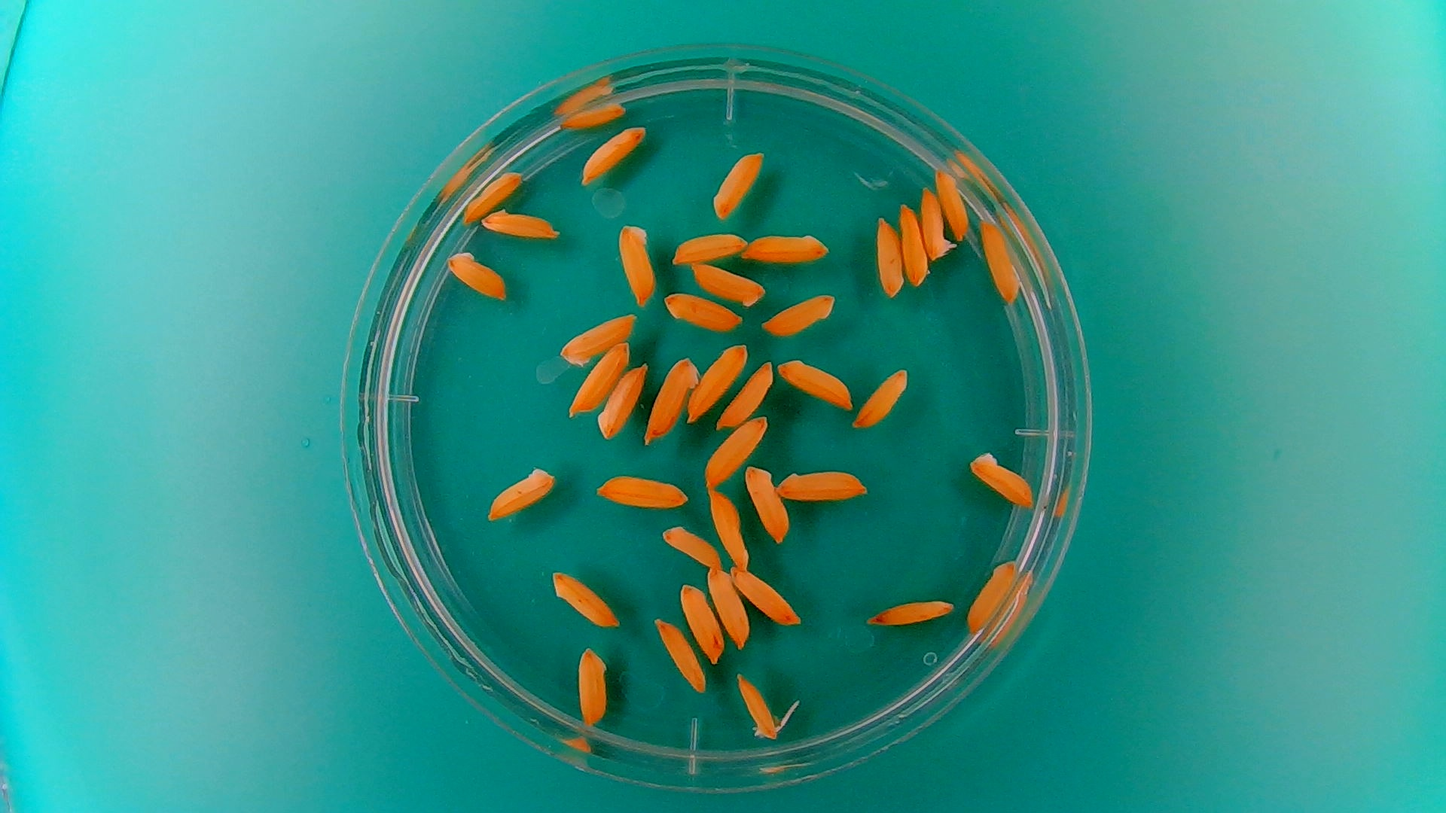no: (684, 339, 750, 425), (701, 413, 771, 489), (642, 354, 700, 444), (567, 339, 632, 417), (728, 563, 806, 627), (484, 462, 560, 522), (557, 311, 637, 368), (967, 447, 1037, 510), (594, 361, 648, 442), (715, 358, 775, 430), (653, 615, 707, 695), (965, 556, 1020, 634), (578, 124, 648, 185), (549, 568, 620, 628), (776, 356, 853, 411), (590, 470, 692, 511), (710, 149, 766, 221), (978, 216, 1023, 305), (706, 484, 752, 571), (743, 461, 791, 544), (773, 464, 871, 504), (704, 565, 750, 650), (678, 582, 725, 664), (459, 167, 525, 225), (758, 290, 839, 336), (852, 367, 910, 431), (690, 260, 767, 306), (934, 167, 978, 245), (445, 248, 509, 301), (865, 593, 956, 630), (662, 290, 742, 331), (618, 221, 656, 306), (657, 522, 725, 569), (896, 200, 930, 291), (574, 643, 609, 729), (742, 230, 830, 264), (670, 230, 749, 265), (873, 215, 905, 300), (482, 207, 560, 239), (559, 98, 628, 131)
yes: (734, 673, 786, 741), (918, 184, 957, 263)
